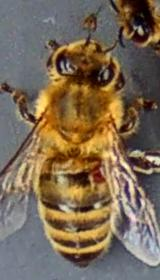varroa_mite: (88, 161, 114, 184)
